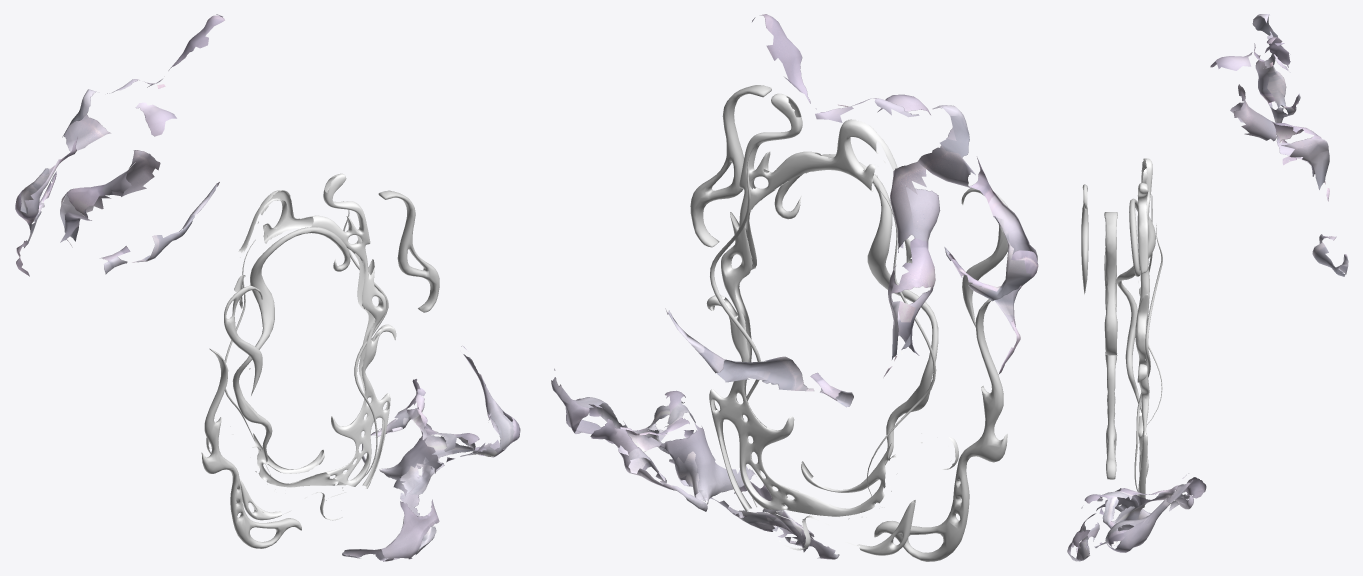
Rendered from 1118mirror01.fbx.
3 renders of one model, left to right at view 1: azimuth 30°, elevation 25°; view 2: azimuth 150°, elevation 25°; view 3: azimuth 270°, elevation 25°, orthographic. The views are drawn at different scales.
Parts seen in each view (by area): view 1: Mesh.002, 融球.028, 融球.030, Mesh.003, Mesh.005, 贝塞尔曲线.015; view 2: 融球.028, Mesh.002, 融球.030, Mesh.003, Mesh.005, 贝塞尔曲线.015; view 3: 融球.028, 融球.030, Mesh.003, Mesh.002, Mesh.005, 贝塞尔曲线.015.
Part boxes in pixels (left/top/right/bottom): Mesh.002: left=206, top=173, right=396, bottom=520; 融球.028: left=15, top=14, right=224, bottom=276; 融球.030: left=342, top=345, right=520, bottom=561; Mesh.003: left=201, top=190, right=439, bottom=548; Mesh.005: left=232, top=227, right=350, bottom=462; 贝塞尔曲线.015: left=224, top=201, right=388, bottom=477; 融球.028: left=665, top=14, right=1038, bottom=407; Mesh.002: left=706, top=93, right=958, bottom=555; 融球.030: left=551, top=368, right=839, bottom=559; Mesh.003: left=690, top=85, right=1008, bottom=561; Mesh.005: left=774, top=154, right=938, bottom=465; 贝塞尔曲线.015: left=710, top=144, right=936, bottom=507; 融球.028: left=1210, top=14, right=1348, bottom=276; 融球.030: left=1067, top=473, right=1206, bottom=561; Mesh.003: left=1081, top=184, right=1117, bottom=479; Mesh.002: left=1135, top=158, right=1152, bottom=507; Mesh.005: left=1116, top=198, right=1155, bottom=412; 贝塞尔曲线.015: left=1134, top=194, right=1162, bottom=492.
Bounding box in the file's own units: 489 × 538 × 286.
